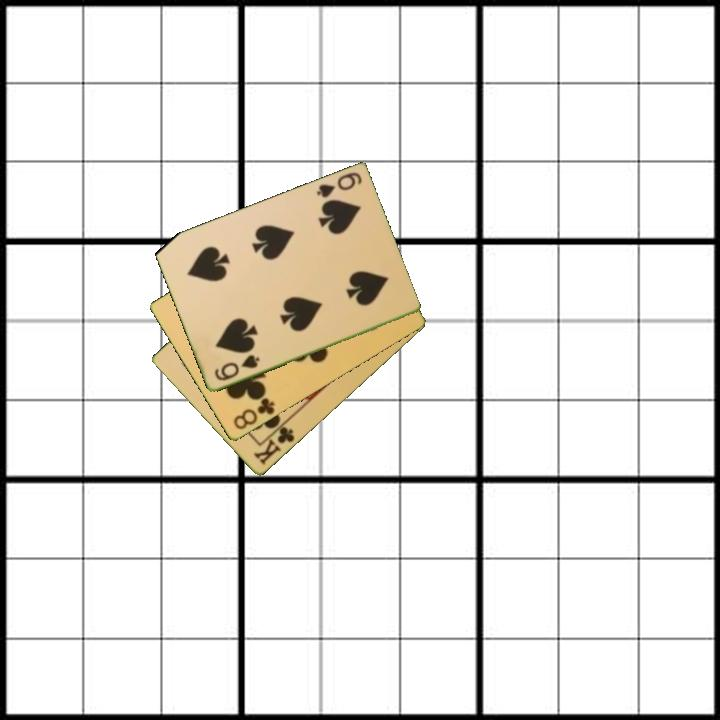6s: (312, 169, 365, 201), (211, 351, 262, 384)
8c: (230, 394, 278, 433)
Kc: (250, 418, 298, 468)
